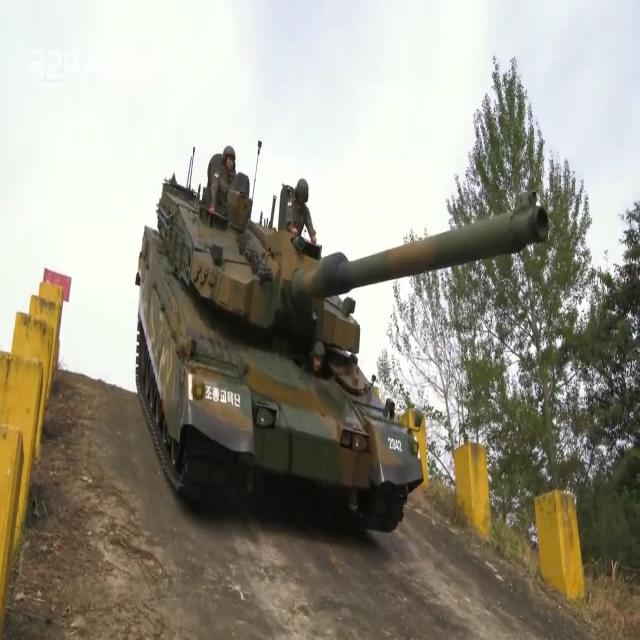korea tank: (133, 139, 551, 535)
